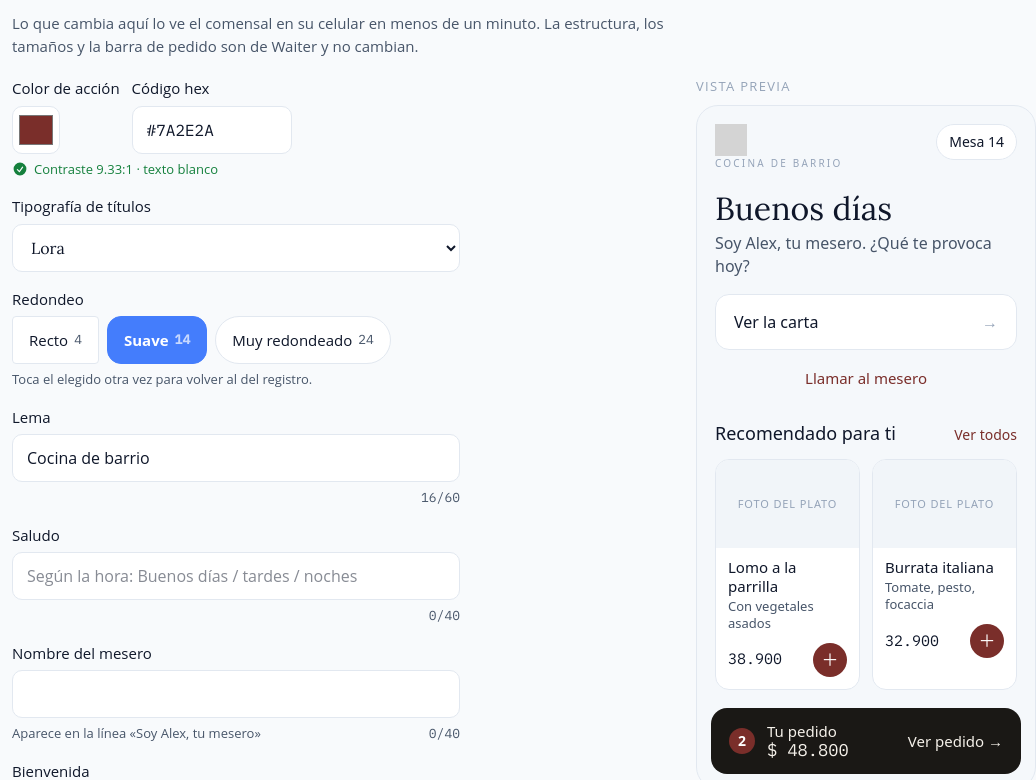
Scenario: falls back to the design sample line and the hourly greeting when the texts are empty
This screenshot has width=1036, height=780.
Expected: the field labelled "Código hex" is shown, [132,106,292,154]
Expected: the text "Soy Alex, tu mesero. ¿Qué te provoca hoy?" is shown, [715,232,1017,278]
Type "Hola" into the field labelled "Saludo" at (236, 576), box [12,552,460,600]
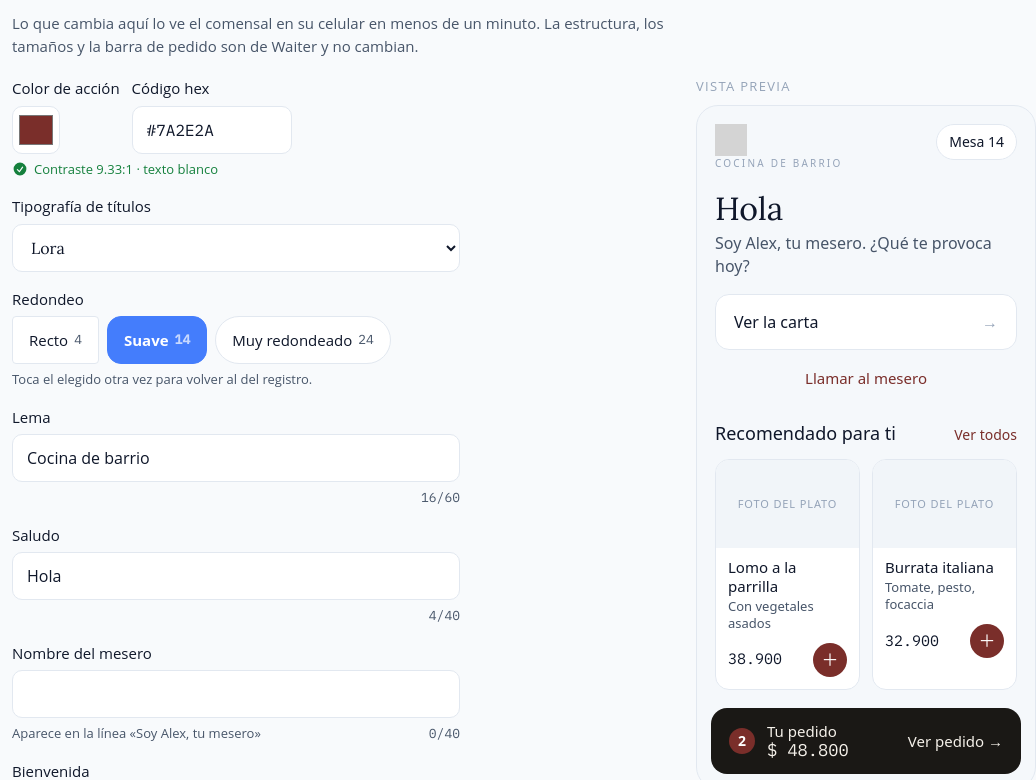
Result: the text "Hola" is shown at [715,188,783,228]
Result: the text "Buenos días" is gone
